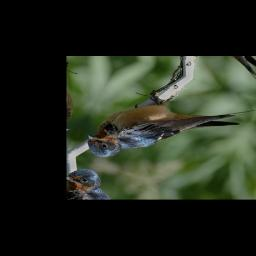Swallow: (77, 66, 256, 193)
